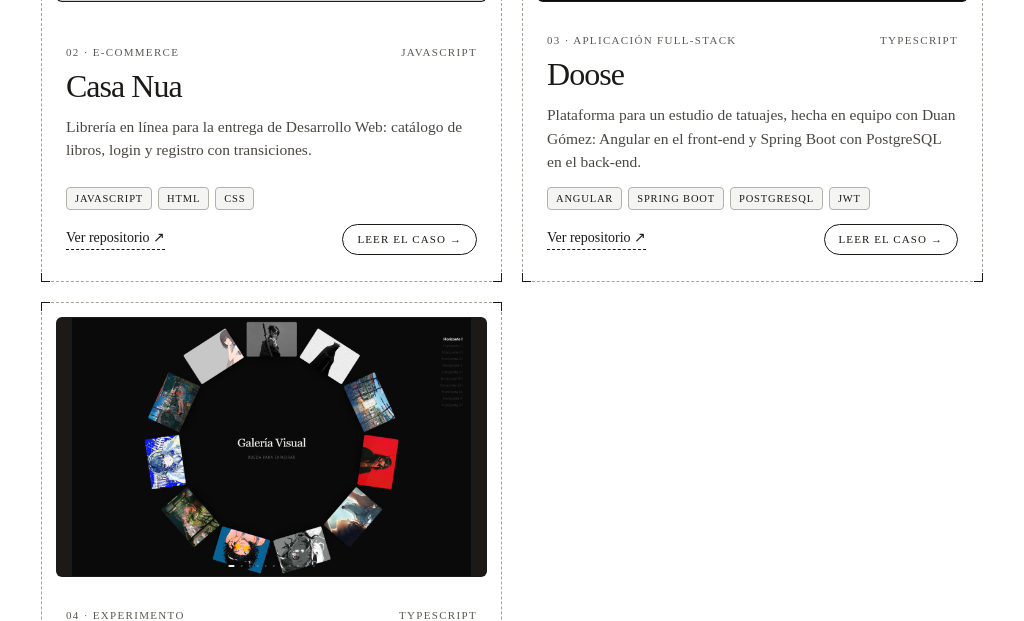
Test: Work › features another project when its case is requested
This screenshot has width=1024, height=621.
(page scrolled)
Click the button "Leer el caso →" below "JWT" at x=891, y=240, box [824, 224, 958, 255]
(page scrolled)
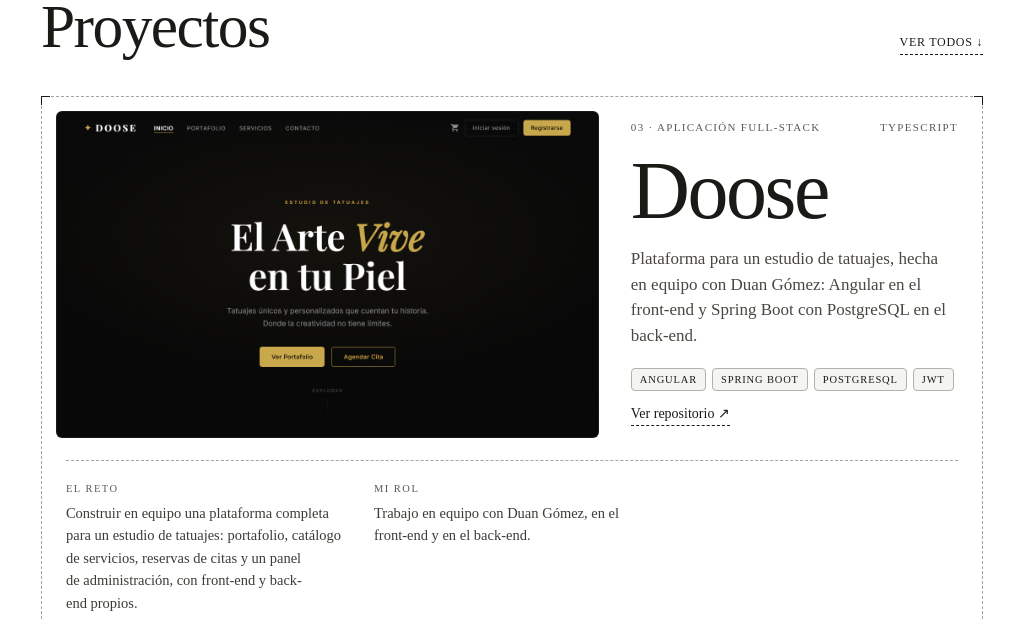
Expected: the heading "Doose" is shown, [631, 145, 828, 236]
Expected: the text "Construir en equipo una plataforma completa para un estudio de tatuajes: portafolio, catálogo de servicios, reservas de " is shown, [66, 505, 341, 611]
